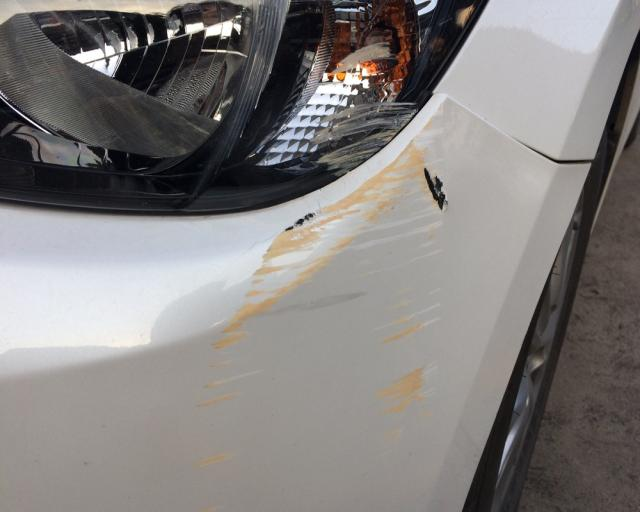scratch: (191, 105, 462, 474), (311, 101, 421, 174)
